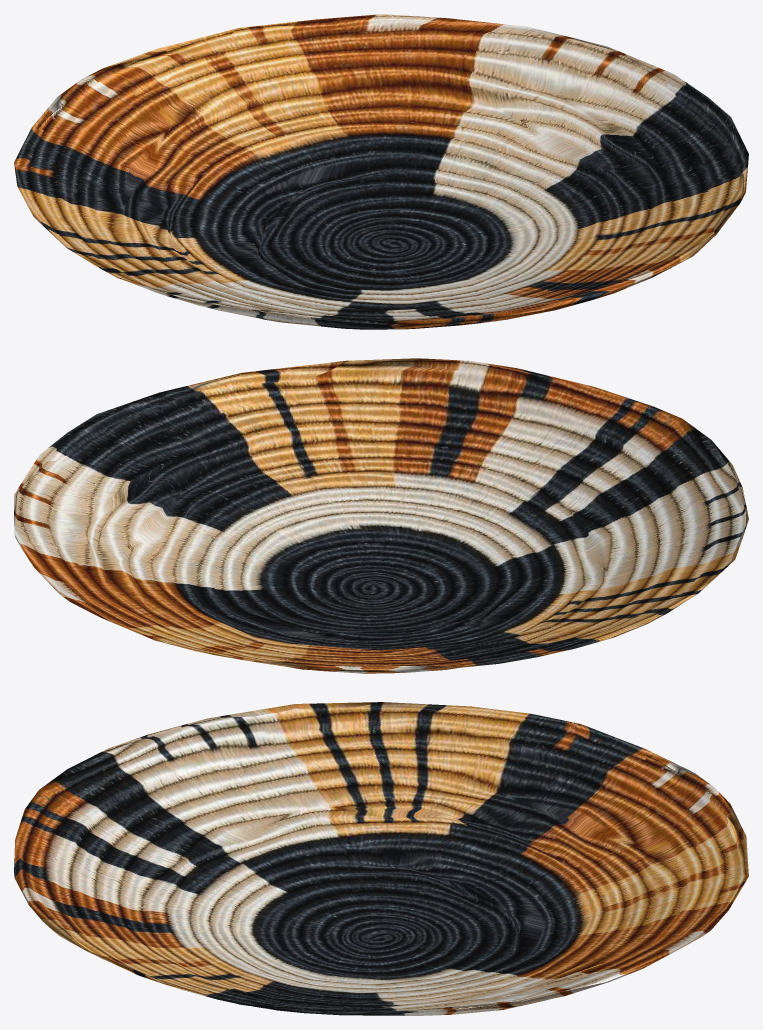
Rendered from Split Tone Radial Stripe.fbx.
3 views of the same model, one above another, from view 1: azimuth 30°, elevation 25°; view 2: azimuth 150°, elevation 25°; view 3: azimuth 270°, elevation 25° (orthographic).
Visible parts, largest first — view 1: Split Tone Radial Stripe; view 2: Split Tone Radial Stripe; view 3: Split Tone Radial Stripe.
Boxes of the visible parts, x1,y1,x2,y2 form: Split Tone Radial Stripe: (14,14,748,329); Split Tone Radial Stripe: (14,358,748,673); Split Tone Radial Stripe: (14,702,748,1015).
Size of the model in its own units: 37.72 by 4.85 by 37.6.
1 material, 1 textured.
